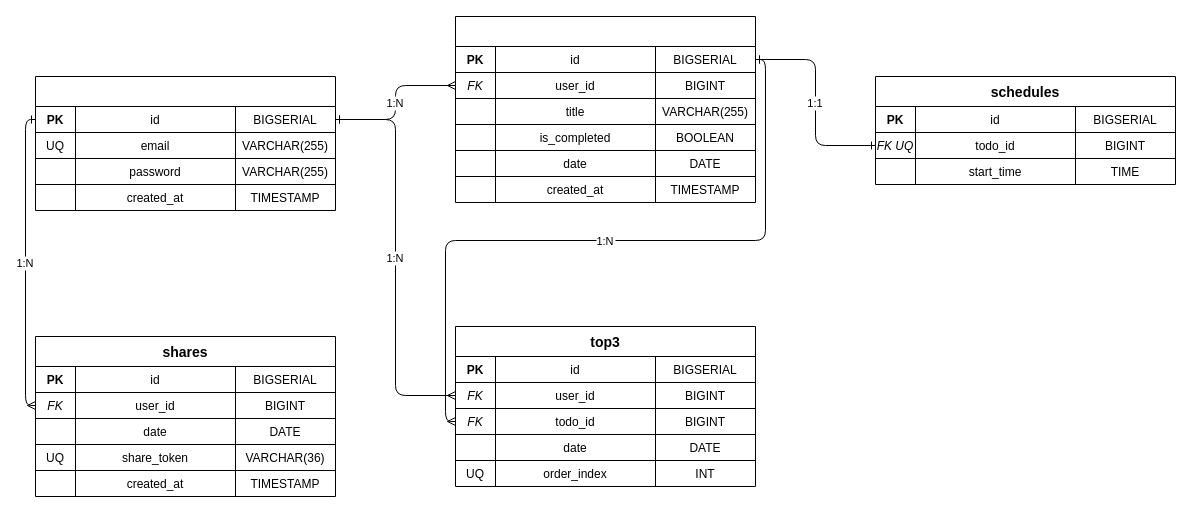
Image size: 1192x513. Some labels were removed from this diagram. Here are the shapes that lost their labels. From the top down, the box of each, then its label:
(454, 16, 756, 202): todos
(34, 76, 336, 210): users
